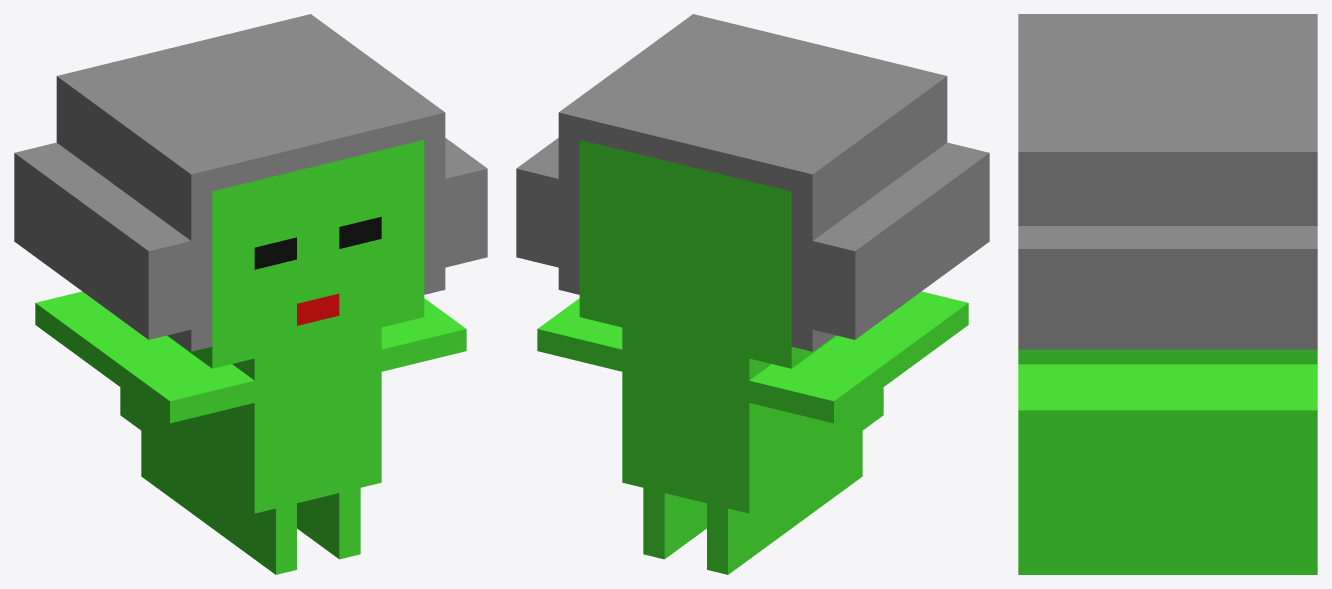
Rendered from music-alien.obj.
3 views of the same model, side by side, from view 1: azimuth 30°, elevation 25°; view 2: azimuth 150°, elevation 25°; view 3: azimuth 270°, elevation 25° (orthographic). The views are drawn at different scales.
Parts seen in each view (by area): view 1: music-alien; view 2: music-alien; view 3: music-alien.
Part boxes in pixels (box(x1,y1,x2,y2)): music-alien: box(14, 14, 487, 574); music-alien: box(516, 14, 989, 574); music-alien: box(1018, 14, 1317, 574).
Size of the model in its own units: 16 by 19 by 11.
Materials: 1 (1 with a texture image).
